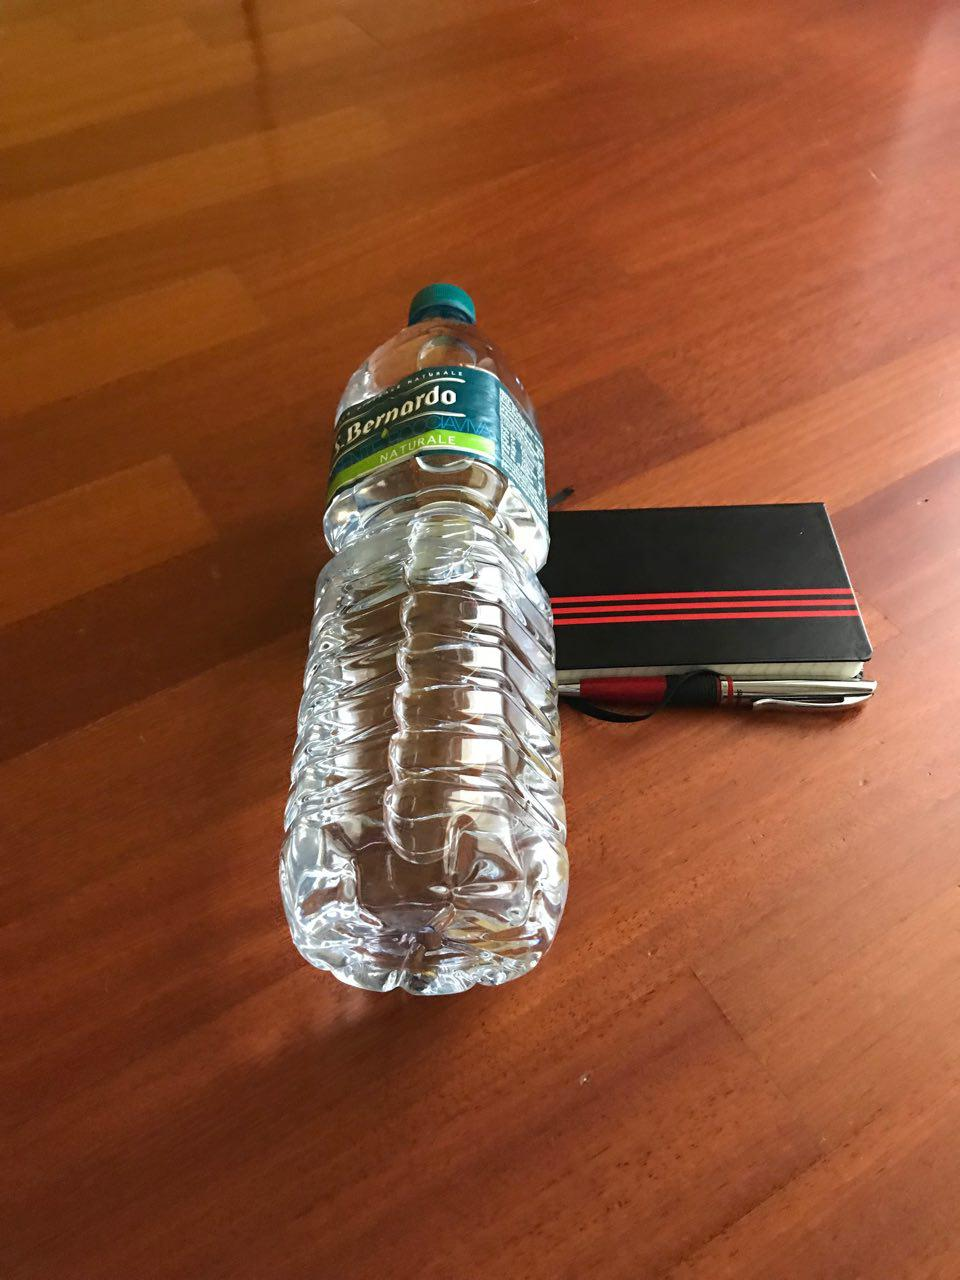san_bernardo: (274, 281, 573, 999)
